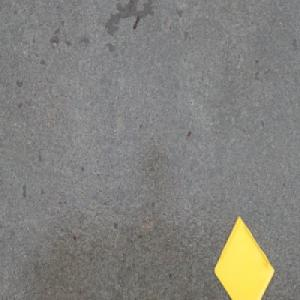PlasticPart: (212, 214, 275, 300)
